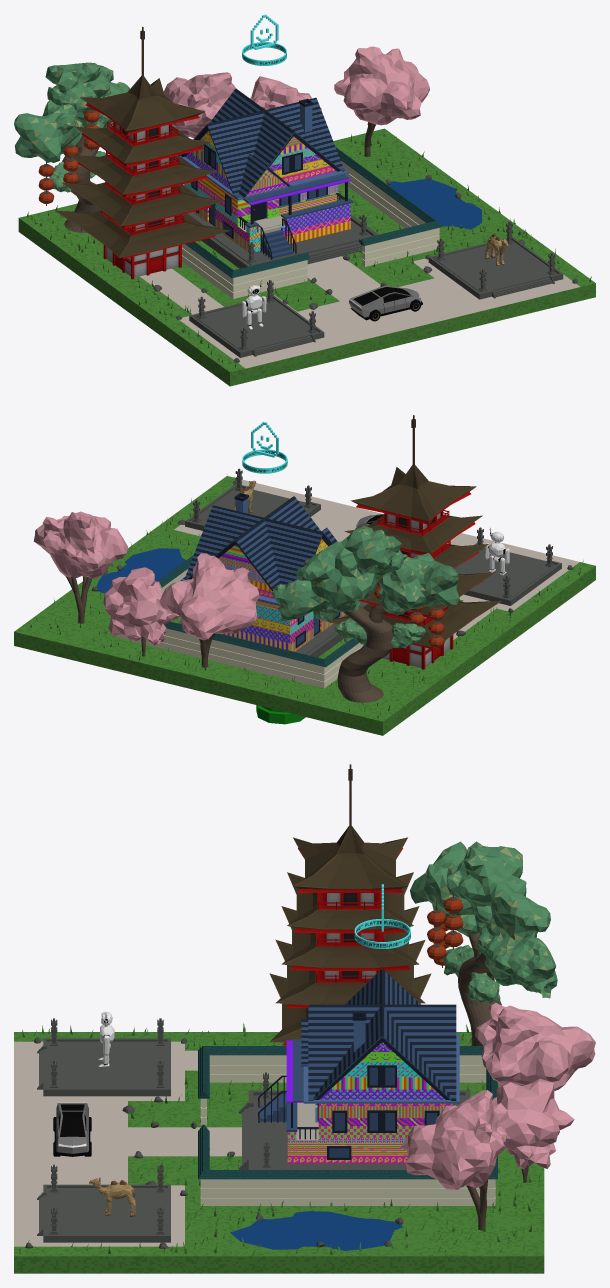
3 views of the same model, one above another, from view 1: azimuth 30°, elevation 25°; view 2: azimuth 150°, elevation 25°; view 3: azimuth 270°, elevation 25° (orthographic). The views are drawn at different scales.
Visible parts, largest first — view 1: Cube.005, Cube.676, VEHICLES_CYBERTRUCK, TYPE_PREMIUM, OBJRANDOM_PLATZEEBOT; view 2: Cube.005, Cube.676, TYPE_PREMIUM, OBJRANDOM_PLATZEEBOT, UNDERGROUND_PIPES; view 3: Cube.005, Cube.676, VEHICLES_CYBERTRUCK, TYPE_PREMIUM, ANIMAL_CAMELLO.
Boxes of the visible parts, x1,y1,x2,y2 form: Cube.005: (14,26,595,386); Cube.676: (178,88,353,259); VEHICLES_CYBERTRUCK: (349,285,422,321); TYPE_PREMIUM: (242,14,286,65); OBJRANDOM_PLATZEEBOT: (241,280,266,329); Cube.005: (14,415,595,735); Cube.676: (180,493,345,651); TYPE_PREMIUM: (242,421,287,473); OBJRANDOM_PLATZEEBOT: (484,527,509,575); UNDERGROUND_PIPES: (256,705,305,724); Cube.005: (14,764,595,1273); Cube.676: (258,969,459,1163); VEHICLES_CYBERTRUCK: (53,1102,91,1156); TYPE_PREMIUM: (354,884,410,948); ANIMAL_CAMELLO: (89,1177,135,1216).
Size of the model in its own units: 4528 by 3273 by 4389.
Materials: 41 (10 with a texture image).
